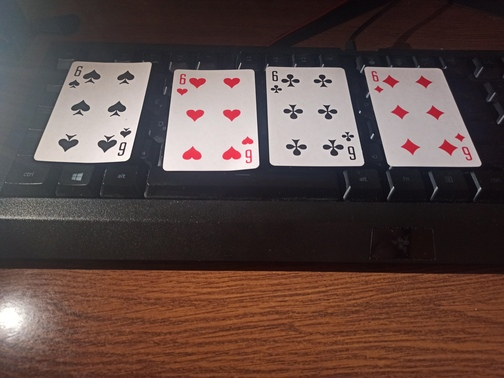sixclubs: (259, 63, 365, 169)
sixdiamonds: (363, 62, 483, 169)
sixhearts: (162, 67, 260, 173)
sixspades: (32, 57, 152, 166)
